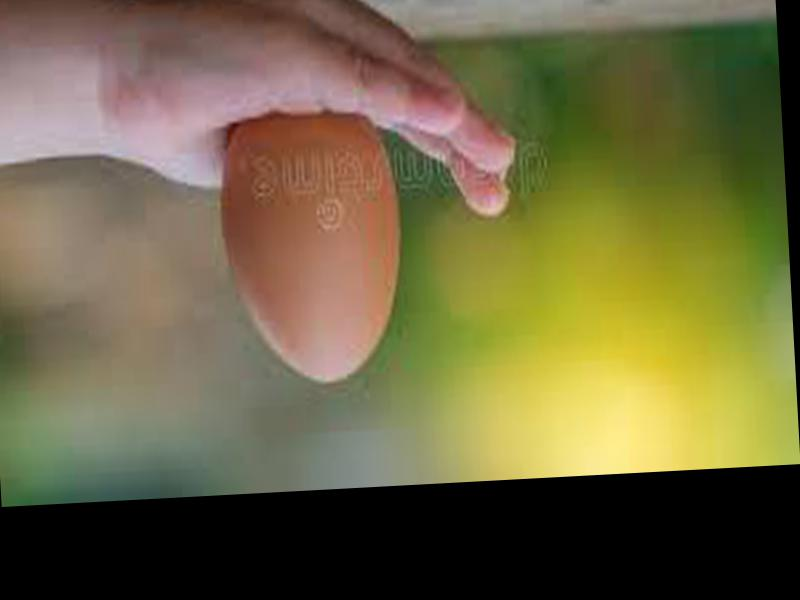Eggs: (212, 106, 405, 387)
